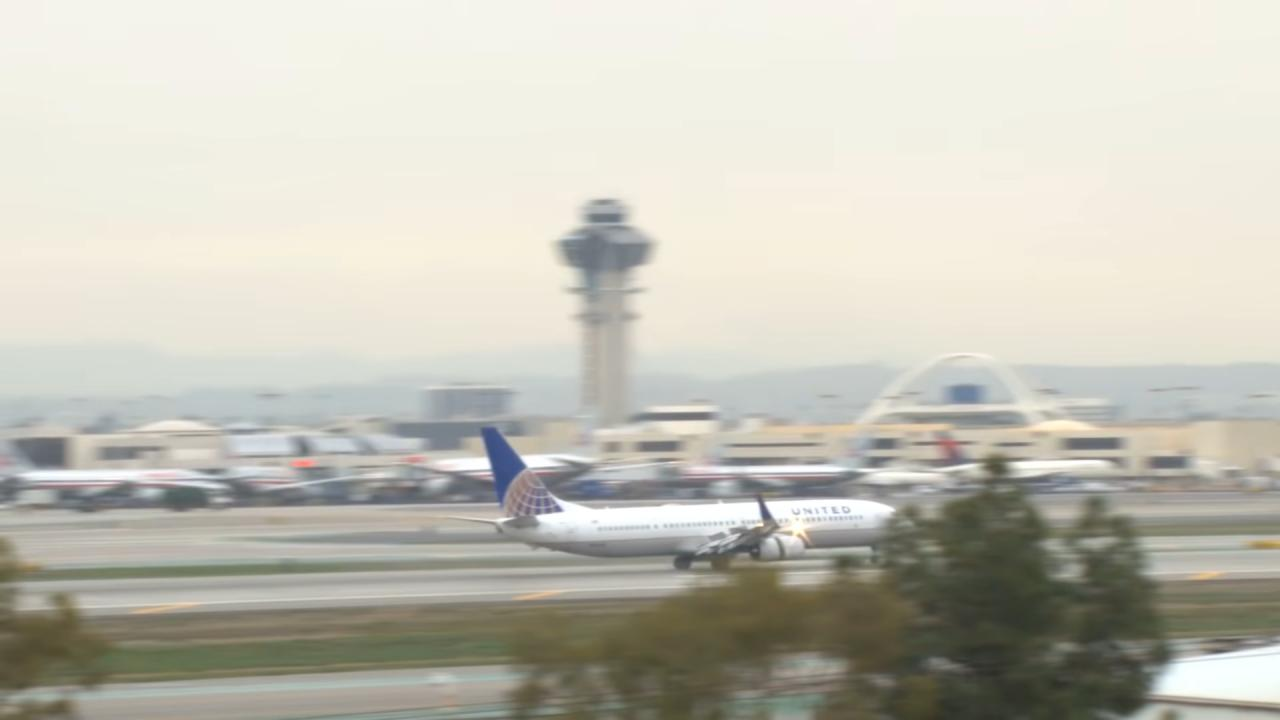Airplane: (434, 418, 938, 574)
